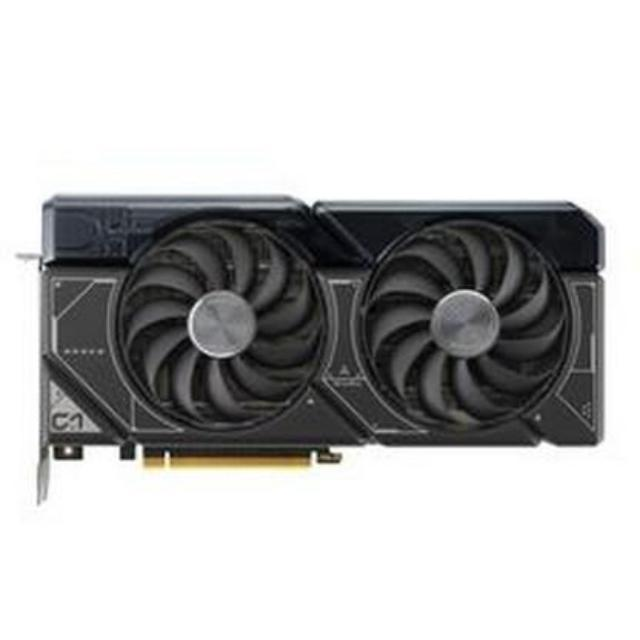GPU: (32, 194, 612, 472)
